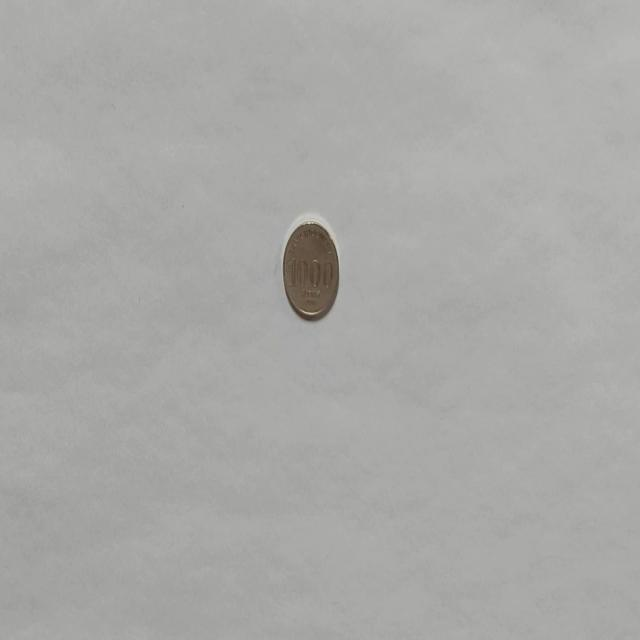seribu rupiah koin: (280, 213, 340, 322)
